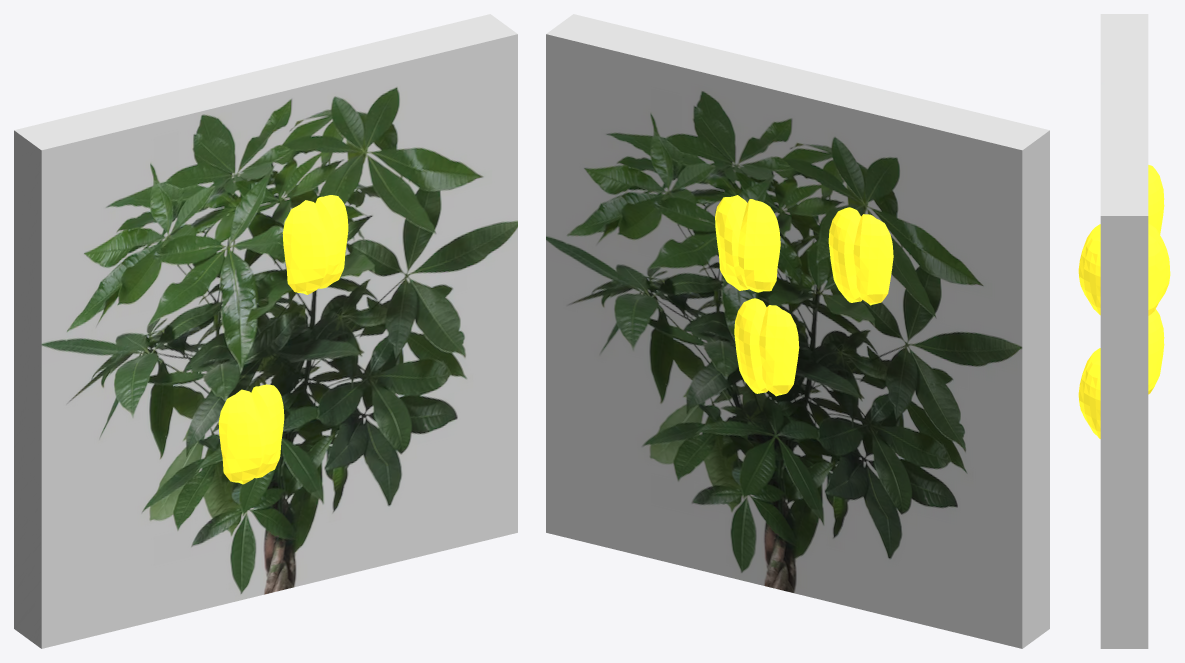
File: pepper_7.dae
3 renders of one model, left to right at view 1: azimuth 30°, elevation 25°; view 2: azimuth 150°, elevation 25°; view 3: azimuth 270°, elevation 25°, orthographic. The views are drawn at different scales.
Visible parts, largest first — view 1: Cube, Sphere.003, Sphere.004; view 2: Cube, Sphere.004, Sphere.001, Sphere.002; view 3: Cube, Sphere.004, Sphere.003, Sphere.001, Sphere.002.
Part boxes in pixels (<box>): Cube: <box>14,14,517,648</box>; Sphere.003: <box>218,384,284,484</box>; Sphere.004: <box>282,195,348,294</box>; Cube: <box>546,14,1049,648</box>; Sphere.004: <box>715,195,780,292</box>; Sphere.001: <box>734,298,799,396</box>; Sphere.002: <box>828,207,893,305</box>; Cube: <box>1100,14,1148,648</box>; Sphere.004: <box>1078,223,1170,315</box>; Sphere.003: <box>1078,348,1100,438</box>; Sphere.001: <box>1148,309,1164,394</box>; Sphere.002: <box>1148,165,1164,234</box>.
Bounding box in the file's own units: 1 × 0.1925 × 1.
3 materials, 1 textured.
